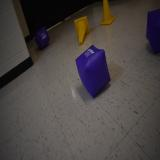cone: (74, 16, 90, 46), (100, 0, 116, 25)
cube: (76, 44, 112, 99), (145, 8, 160, 54), (34, 26, 50, 50)
